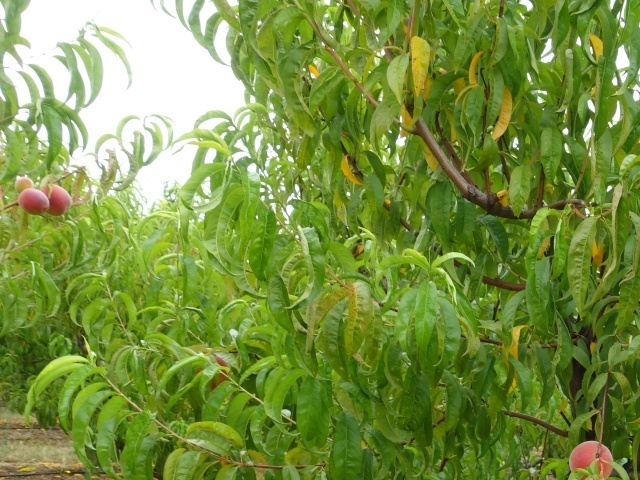peach: (563, 437, 618, 480), (36, 182, 75, 216), (16, 185, 52, 220), (9, 174, 36, 196)
